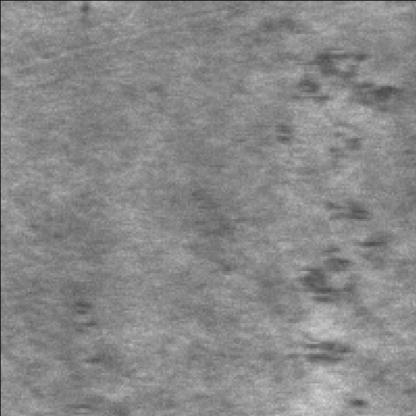rolled-in_scale: (280, 50, 405, 372), (54, 293, 116, 393)
